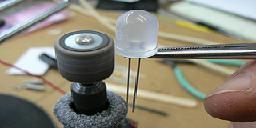LED: (112, 9, 160, 100)
